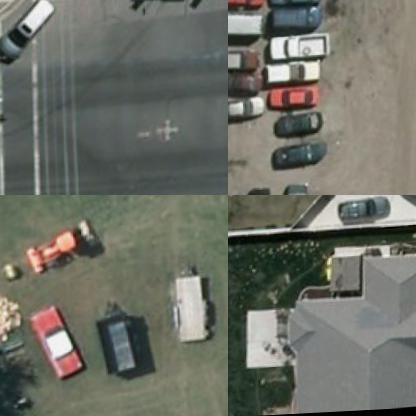car: (28, 308, 89, 387), (0, 0, 63, 65), (270, 34, 333, 67), (272, 143, 335, 176), (276, 114, 327, 148), (338, 200, 393, 228), (270, 62, 322, 88), (272, 12, 333, 34), (272, 90, 325, 115), (228, 14, 268, 44), (228, 99, 266, 127), (228, 74, 267, 100), (228, 50, 264, 76), (228, 0, 271, 17), (273, 0, 330, 12)
other: (29, 214, 106, 276)
